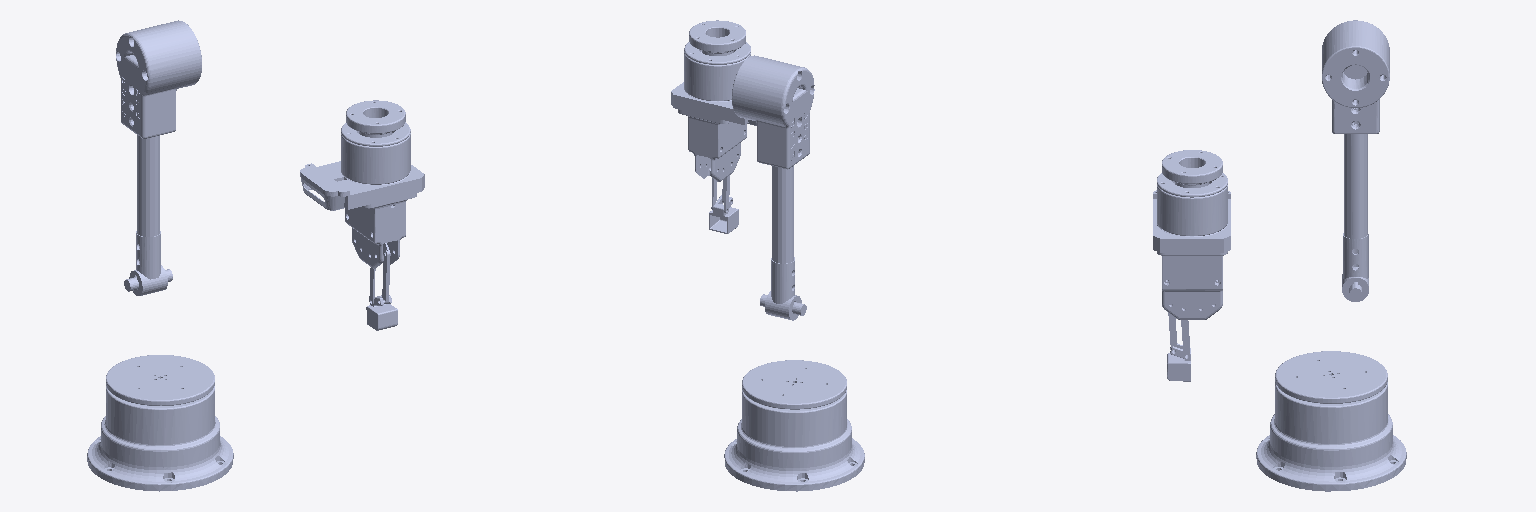
robot.urdf — rover_arm_new_urdf:
<?xml version="1.0" encoding="utf-8" ?>
<!-- This URDF was automatically created by SolidWorks to URDF Exporter! Originally created by [author] ([email redacted]) 
     Commit Version: 1.6.0-4-g7f85cfe  Build Version: 1.6.7995.38578
     For more information, please see http://wiki.ros.org/sw_urdf_exporter -->
<robot name="rover_arm_new_urdf">
    <link name="world" />
    <joint name="base_joint" type="fixed">
        <parent link="world" />
        <child link="base_link" />
        <origin rpy="0 0 0" xyz="0.0 0.0 0.00001" />
    </joint>
    <link name="base_link">
        <inertial>
            <origin xyz="-2.2814E-16 7.12E-17 0.064877" rpy="0 0 0" />
            <mass value="2.1128" />
            <inertia ixx="0.0074562" ixy="1.72E-06" ixz="-1.7996E-17" iyy="0.0074583" iyz="-1.4355E-17" izz="0.010214" />
        </inertial>
        <visual>
            <origin xyz="0 0 0" rpy="0 0 0" />
            <geometry>
                <mesh filename="package://rover_arm_new_urdf/meshes/base_link.STL" />
            </geometry>
            <material name="">
                <color rgba="0.79216 0.81961 0.93333 1" />
            </material>
        </visual>
        <collision>
            <origin xyz="0 0 0" rpy="0 0 0" />
            <geometry>
                <mesh filename="package://rover_arm_new_urdf/meshes/base_link.STL" />
            </geometry>
        </collision>
    </link>
    <link name="link_1">
        <inertial>
            <origin xyz="-0.00064135 0.0059228 0.051415" rpy="0 0 0" />
            <mass value="0.49072" />
            <inertia ixx="0.001755" ixy="3.1435E-07" ixz="7.1879E-07" iyy="0.0010881" iyz="-0.00019759" izz="0.001162" />
        </inertial>
        <visual>
            <origin xyz="0 0 0" rpy="0 0 0" />
            <geometry>
                <mesh filename="package://rover_arm_new_urdf/meshes/link_1.STL" />
            </geometry>
            <material name="">
                <color rgba="0.89804 0.91765 0.92941 1" />
            </material>
        </visual>
        <collision>
            <origin xyz="0 0 0" rpy="0 0 0" />
            <geometry>
                <mesh filename="package://rover_arm_new_urdf/meshes/link_1.STL" />
            </geometry>
        </collision>
    </link>
    <joint name="joint_1" type="revolute">
        <origin xyz="0 0 0.133" rpy="0 0 0" />
        <parent link="base_link" />
        <child link="link_1" />
        <axis xyz="0 0 1" />
        <limit lower="-3.142" upper="3.142" effort="100" velocity="2" />
    </joint>
    <link name="link_2">
        <inertial>
            <origin xyz="-3.148E-06 0.2843 0.0099169" rpy="0 0 0" />
            <mass value="1.1101" />
            <inertia ixx="0.0026516" ixy="-1.2212E-07" ixz="-1.1353E-07" iyy="0.0012227" iyz="-0.00020306" izz="0.0025953" />
        </inertial>
        <visual>
            <origin xyz="0 0 0" rpy="0 0 0" />
            <geometry>
                <mesh filename="package://rover_arm_new_urdf/meshes/link_2.STL" />
            </geometry>
            <material name="">
                <color rgba="0.79216 0.81961 0.93333 1" />
            </material>
        </visual>
        <collision>
            <origin xyz="0 0 0" rpy="0 0 0" />
            <geometry>
                <mesh filename="package://rover_arm_new_urdf/meshes/link_2.STL" />
            </geometry>
        </collision>
    </link>
    <joint name="joint_2" type="revolute">
        <origin xyz="0 0.0355 0.1519" rpy="1.5708 0 1.5708" />
        <parent link="link_1" />
        <child link="link_2" />
        <axis xyz="0 0 1" />
        <limit lower="-3.142" upper="3.142" effort="100" velocity="2" />
    </joint>
    <link name="link_3">
        <inertial>
            <origin xyz="4.4409E-16 -0.0011125 -0.0037525" rpy="0 0 0" />
            <mass value="0.83444" />
            <inertia ixx="0.0013519" ixy="9.0993E-07" ixz="-3.0376E-20" iyy="0.0013665" iyz="1.2183E-05" izz="0.0015146" />
        </inertial>
        <visual>
            <origin xyz="0 0 0" rpy="0 0 0" />
            <geometry>
                <mesh filename="package://rover_arm_new_urdf/meshes/link_3.STL" />
            </geometry>
            <material name="">
                <color rgba="0.79216 0.81961 0.93333 1" />
            </material>
        </visual>
        <collision>
            <origin xyz="0 0 0" rpy="0 0 0" />
            <geometry>
                <mesh filename="package://rover_arm_new_urdf/meshes/link_3.STL" />
            </geometry>
        </collision>
    </link>
    <joint name="joint_3" type="revolute">
        <origin xyz="0 0.363 0.149" rpy="0 0 -1.5708" />
        <parent link="link_2" />
        <child link="link_3" />
        <axis xyz="0 0 -1" />
        <limit lower="-3.142" upper="3.142" effort="50" velocity="4" />
    </joint>
    <link name="link_4">
        <inertial>
            <origin xyz="-0.0011125 2.387E-15 -0.0037525" rpy="0 0 0" />
            <mass value="0.83444" />
            <inertia ixx="0.0013665" ixy="-9.0993E-07" ixz="1.2183E-05" iyy="0.0013519" iyz="8.7468E-20" izz="0.0015146" />
        </inertial>
        <visual>
            <origin xyz="0 0 0" rpy="0 0 0" />
            <geometry>
                <mesh filename="package://rover_arm_new_urdf/meshes/link_4.STL" />
            </geometry>
            <material name="">
                <color rgba="0.79216 0.81961 0.93333 1" />
            </material>
        </visual>
        <collision>
            <origin xyz="0 0 0" rpy="0 0 0" />
            <geometry>
                <mesh filename="package://rover_arm_new_urdf/meshes/link_4.STL" />
            </geometry>
        </collision>
    </link>
    <joint name="joint_4" type="revolute">
        <origin xyz="0 -0.13161 0.10761" rpy="-1.5708 0 -3.1416" />
        <parent link="link_3" />
        <child link="link_4" />
        <axis xyz="0 0 -1" />
        <limit lower="-3.142" upper="3.142" effort="50" velocity="4" />
    </joint>
    <link name="link_5">
        <inertial>
            <origin xyz="-0.0056897 0.00022371 0.030611" rpy="0 0 0" />
            <mass value="1.0836" />
            <inertia ixx="0.001469" ixy="-1.5038E-06" ixz="-7.5505E-06" iyy="0.0014595" iyz="1.0158E-06" izz="0.0020478" />
        </inertial>
        <visual>
            <origin xyz="0 0 0" rpy="0 0 0" />
            <geometry>
                <mesh filename="package://rover_arm_new_urdf/meshes/link_5.STL" />
            </geometry>
            <material name="">
                <color rgba="0.79216 0.81961 0.93333 1" />
            </material>
        </visual>
        <collision>
            <origin xyz="0 0 0" rpy="0 0 0" />
            <geometry>
                <mesh filename="package://rover_arm_new_urdf/meshes/link_5.STL" />
            </geometry>
        </collision>
    </link>
    <joint name="joint_5" type="revolute">
        <origin xyz="-0.11211 0 0.10761" rpy="1.5708 0 -1.5708" />
        <parent link="link_4" />
        <child link="link_5" />
        <axis xyz="0 0 -1" />
        <limit lower="-3.142" upper="3.142" effort="50" velocity="4" />
    </joint>
    <link name="Right_ee">
        <inertial>
            <origin xyz="-0.011163 -0.080593 0.00035566" rpy="0 0 0" />
            <mass value="0.028855" />
            <inertia ixx="1.2417E-05" ixy="3.9813E-07" ixz="-3.4576E-12" iyy="4.4005E-06" iyz="7.4412E-12" izz="1.2567E-05" />
        </inertial>
        <visual>
            <origin xyz="0 0 0" rpy="0 0 0" />
            <geometry>
                <mesh filename="package://rover_arm_new_urdf/meshes/Right_ee.STL" />
            </geometry>
            <material name="">
                <color rgba="0.79216 0.81961 0.93333 1" />
            </material>
        </visual>
        <collision>
            <origin xyz="0 0 0" rpy="0 0 0" />
            <geometry>
                <mesh filename="package://rover_arm_new_urdf/meshes/Right_ee.STL" />
            </geometry>
            <collision name="Right_ee_collision" />
        </collision>
    </link>
    <joint name="joint_ree" type="revolute">
        <origin xyz="0 -0.031487 0.15715" rpy="-1.5708 0 -1.5708" />
        <parent link="link_5" />
        <child link="Right_ee" />
        <axis xyz="0 0 1" />
        <limit lower="0" upper="0.7" effort="15" velocity="6" />
    </joint>
    <link name="Left_ee">
        <inertial>
            <origin xyz="0.011163 -0.080593 0.00030569" rpy="0 0 0" />
            <mass value="0.028855" />
            <inertia ixx="1.2417E-05" ixy="-3.9813E-07" ixz="-3.4576E-12" iyy="4.4005E-06" iyz="-7.4412E-12" izz="1.2567E-05" />
        </inertial>
        <visual>
            <origin xyz="0 0 0" rpy="0 0 0" />
            <geometry>
                <mesh filename="package://rover_arm_new_urdf/meshes/Left_ee.STL" />
            </geometry>
            <material name="">
                <color rgba="0.79216 0.81961 0.93333 1" />
            </material>
        </visual>
        <collision>
            <origin xyz="0 0 0" rpy="0 0 0" />
            <geometry>
                <mesh filename="package://rover_arm_new_urdf/meshes/Left_ee.STL" />
            </geometry>
            <collision name="Left_ee_collision" />
        </collision>
    </link>
    <joint name="joint_lee" type="revolute">
        <origin xyz="0 0.031487 0.15715" rpy="-1.5708 0 -1.5708" />
        <parent link="link_5" />
        <child link="Left_ee" />
        <axis xyz="0 0 1" />
        <limit lower="-0.7" upper="0" effort="15" velocity="6" />
    </joint>
    <transmission name="link_1_trans">
        <type>transmission_interface/SimpleTransmission</type>
        <joint name="joint_1">
            <hardwareInterface>hardware_interface/PositionJointInterface</hardwareInterface>
        </joint>
        <actuator name="link_1_motor">
            <hardwareInterface>hardware_interface/PositionJointInterface</hardwareInterface>
            <mechanicalReduction>1</mechanicalReduction>
        </actuator>
    </transmission>
    <transmission name="link_2_trans">
        <type>transmission_interface/SimpleTransmission</type>
        <joint name="joint_2">
            <hardwareInterface>hardware_interface/PositionJointInterface</hardwareInterface>
        </joint>
        <actuator name="link_2_motor">
            <hardwareInterface>hardware_interface/PositionJointInterface</hardwareInterface>
            <mechanicalReduction>1</mechanicalReduction>
        </actuator>
    </transmission>
    <transmission name="link_3_trans">
        <type>transmission_interface/SimpleTransmission</type>
        <joint name="joint_3">
            <hardwareInterface>hardware_interface/PositionJointInterface</hardwareInterface>
        </joint>
        <actuator name="link_3_motor">
            <hardwareInterface>hardware_interface/PositionJointInterface</hardwareInterface>
            <mechanicalReduction>1</mechanicalReduction>
        </actuator>
    </transmission>
    <transmission name="link_4_trans">
        <type>transmission_interface/SimpleTransmission</type>
        <joint name="joint_4">
            <hardwareInterface>hardware_interface/PositionJointInterface</hardwareInterface>
        </joint>
        <actuator name="link_4_motor">
            <hardwareInterface>hardware_interface/PositionJointInterface</hardwareInterface>
            <mechanicalReduction>1</mechanicalReduction>
        </actuator>
    </transmission>
    <transmission name="link_5_trans">
        <type>transmission_interface/SimpleTransmission</type>
        <joint name="joint_5">
            <hardwareInterface>hardware_interface/PositionJointInterface</hardwareInterface>
        </joint>
        <actuator name="link_5_motor">
            <hardwareInterface>hardware_interface/PositionJointInterface</hardwareInterface>
            <mechanicalReduction>1</mechanicalReduction>
        </actuator>
    </transmission>
    <transmission name="Right_ee_trans">
        <type>transmission_interface/SimpleTransmission</type>
        <joint name="joint_ree">
            <hardwareInterface>hardware_interface/PositionJointInterface</hardwareInterface>
        </joint>
        <actuator name="Right_ee_motor">
            <hardwareInterface>hardware_interface/PositionJointInterface</hardwareInterface>
            <mechanicalReduction>1</mechanicalReduction>
        </actuator>
    </transmission>
    <transmission name="Left_ee_trans">
        <type>transmission_interface/SimpleTransmission</type>
        <joint name="joint_lee">
            <hardwareInterface>hardware_interface/PositionJointInterface</hardwareInterface>
        </joint>
        <actuator name="Left_ee_motor">
            <hardwareInterface>hardware_interface/PositionJointInterface</hardwareInterface>
            <mechanicalReduction>1</mechanicalReduction>
        </actuator>
    </transmission>
    <gazebo>
        <plugin name="control" filename="libgazebo_ros_control.so">
            <robotNamespace>/</robotNamespace>
        </plugin>
        <plugin name="gazebo_ros_control" filename="libgazebo_ros_control.so">
            <robotNamespace>/</robotNamespace>
        </plugin>
    </gazebo>
    <gazebo reference="link_1">
        <selfCollide>true</selfCollide>
    </gazebo>
    <gazebo reference="link_2">
        <selfCollide>true</selfCollide>
    </gazebo>
    <gazebo reference="link_3">
        <selfCollide>true</selfCollide>
    </gazebo>
    <gazebo reference="link_4">
        <selfCollide>true</selfCollide>
    </gazebo>
    <gazebo reference="link_5">
        <selfCollide>true</selfCollide>
    </gazebo>
    <gazebo reference="Right_ee">
        <selfCollide>true</selfCollide>
    </gazebo>
    <gazebo reference="Left_ee">
        <selfCollide>true</selfCollide>
    </gazebo>
    <gazebo>
        <plugin name="gazebo_grasp_fix" filename="libgazebo_grasp_fix.so">
            <arm>
                <arm_name>/</arm_name>
                <palm_link>link_5</palm_link>
                <gripper_link>Right_ee</gripper_link>
                <gripper_link>Left_ee</gripper_link>
            </arm>
            <forces_angle_tolerance>90</forces_angle_tolerance>
            <update_rate>10</update_rate>
            <grip_count_threshold>3</grip_count_threshold>
            <max_grip_count>10</max_grip_count>
            <release_tolerance>0.004</release_tolerance>
            <disable_collisions_on_attach>true</disable_collisions_on_attach>
            <contact_topic>__default_topic__</contact_topic>
        </plugin>
    </gazebo>
</robot>

--- Facts derived from the render (not from the file) ---
3 views of the same robot in one strip: view 1: azimuth 30°, elevation 25°; view 2: azimuth 150°, elevation 25°; view 3: azimuth 270°, elevation 25° (orthographic).
Robot: rover_arm_new_urdf — 9 links, 8 joints (7 revolute, 1 fixed); root link world; default pose: every joint at zero.
Links seen in each view (by area): view 1: base_link, link_5, link_2, Left_ee; view 2: base_link, link_2, link_5, Left_ee; view 3: base_link, link_5, link_2, Left_ee.
Link boxes in pixels (box(x1,y1,x2,y2)): base_link: box(87, 355, 233, 491); link_5: box(300, 100, 424, 268); link_2: box(116, 20, 201, 295); Left_ee: box(366, 243, 397, 330); base_link: box(724, 360, 864, 491); link_2: box(732, 55, 814, 320); link_5: box(671, 20, 756, 181); Left_ee: box(709, 175, 738, 233); base_link: box(1256, 351, 1406, 491); link_5: box(1153, 150, 1230, 319); link_2: box(1322, 20, 1389, 301); Left_ee: box(1167, 303, 1190, 381).
Size in the robot's own frame: 0.4241 by 0.3707 by 0.6979 metres.
4 mesh visuals loaded from 8 distinct referenced files (4 binary STL); not drawn: 4 (reference not matched to a file when rendering).
